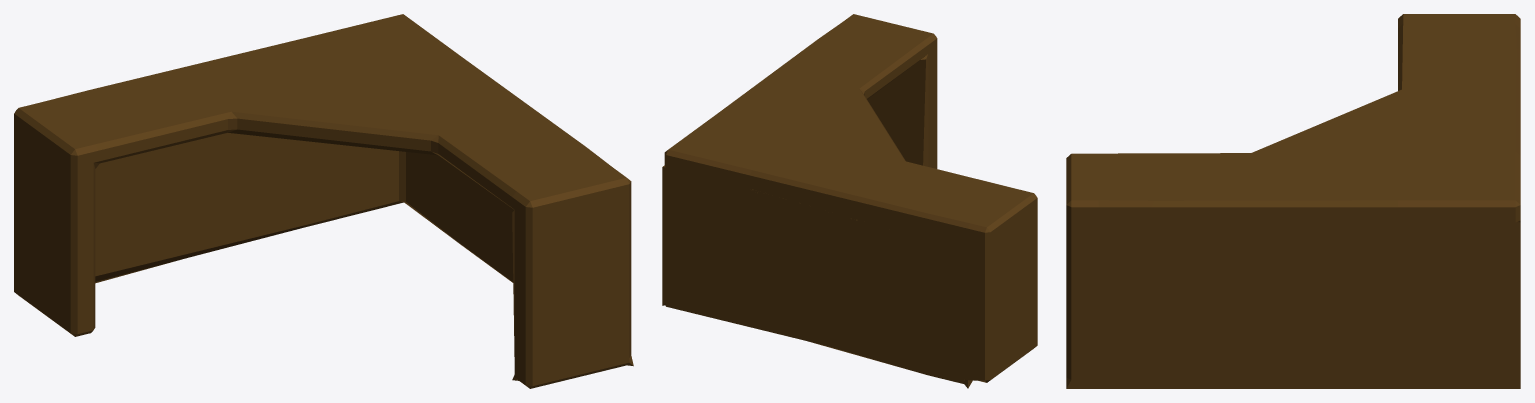
File: mesa 4.fbx
3 views of the same model, side by side, from view 1: azimuth 30°, elevation 25°; view 2: azimuth 150°, elevation 25°; view 3: azimuth 270°, elevation 25° (orthographic). The views are drawn at different scales.
Parts seen in each view (by area): view 1: Masa .001; view 2: Masa .001; view 3: Masa .001.
Part boxes in pixels (x1,y1,x2,y2): Masa .001: [14, 14, 633, 388]; Masa .001: [662, 14, 1037, 388]; Masa .001: [1066, 14, 1520, 388].
Size of the model in its own units: 166 by 79.62 by 167.
